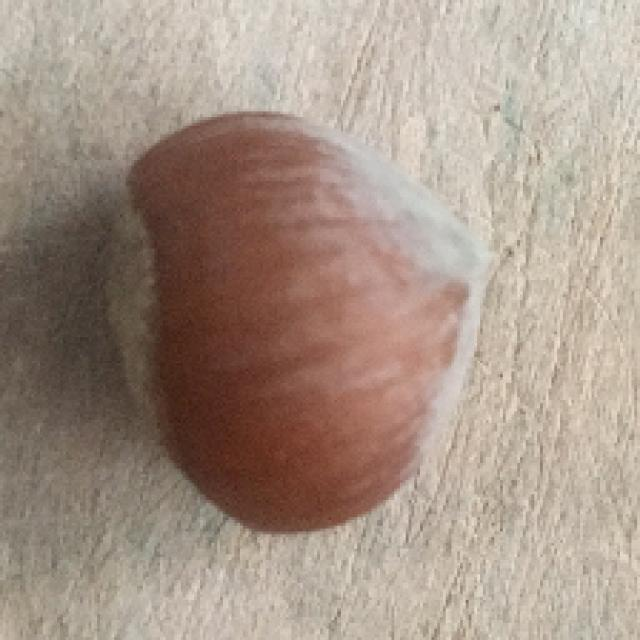qualityHazelnut: (92, 101, 493, 534)
